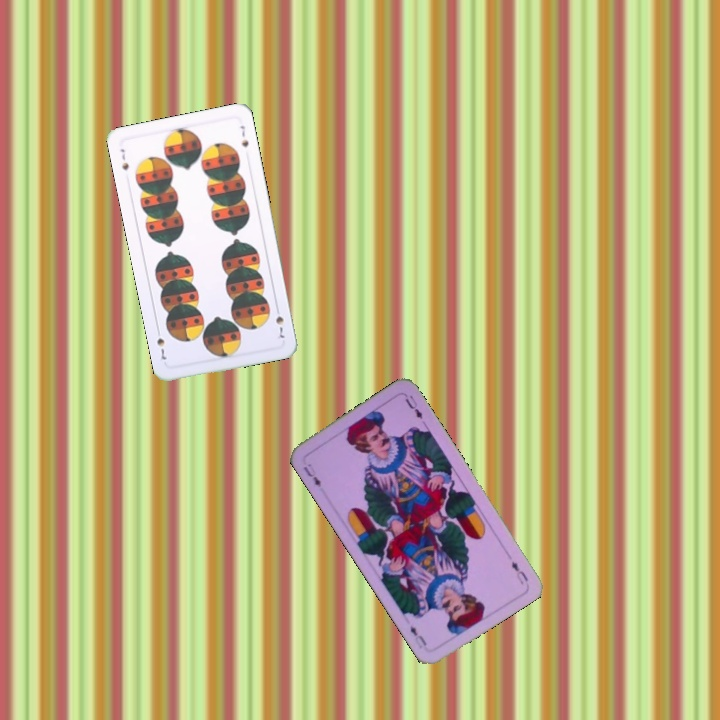EU: (507, 557, 531, 587), (299, 462, 324, 490)
S7: (272, 302, 287, 341), (116, 145, 131, 172)
